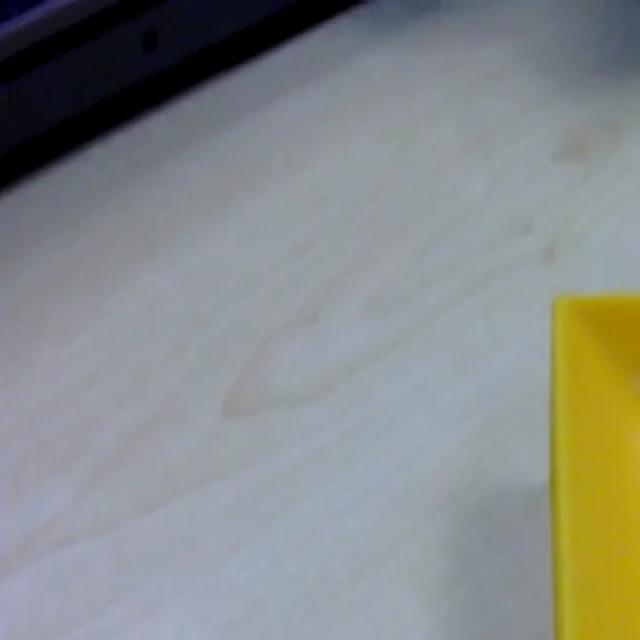yellow_block: (548, 289, 638, 636)
